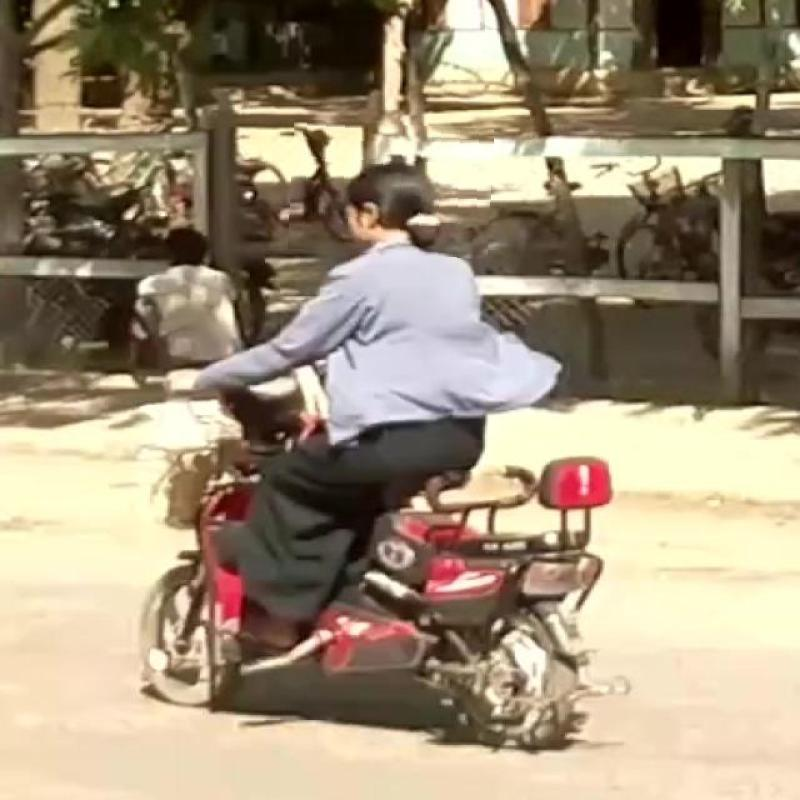nohelmet: (290, 121, 492, 256)
